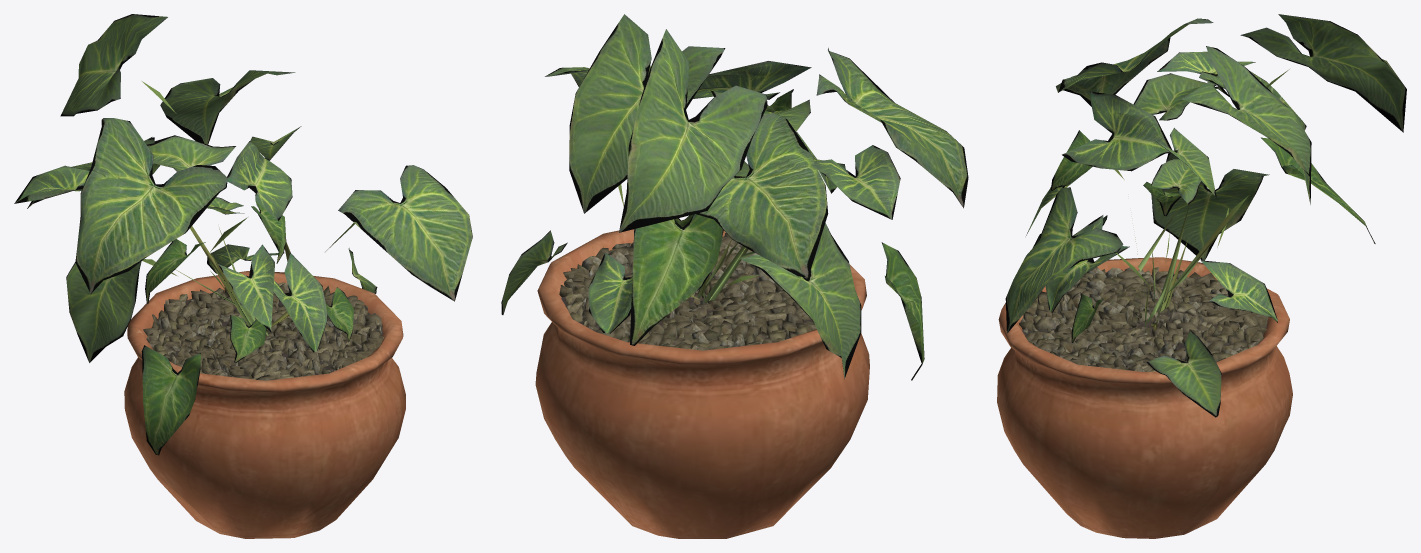
File: potted_plant_02.glb
3 views of the same model, side by side, from view 1: azimuth 30°, elevation 25°; view 2: azimuth 150°, elevation 25°; view 3: azimuth 270°, elevation 25° (orthographic). The views are drawn at different scales.
Parts seen in each view (by area): view 1: potted_plant_02_leaves, potted_plant_02_pot; view 2: potted_plant_02_leaves, potted_plant_02_pot; view 3: potted_plant_02_pot, potted_plant_02_leaves.
Part boxes in pixels (x1,y1,x2,y2): potted_plant_02_leaves: (14,14,472,455); potted_plant_02_pot: (124,271,405,538); potted_plant_02_leaves: (501,14,968,380); potted_plant_02_pot: (535,229,869,538); potted_plant_02_pot: (997,257,1292,538); potted_plant_02_leaves: (1005,14,1406,417).
Size of the model in its own units: 0.7012 by 0.8368 by 0.6537.
2 materials, 2 textured.
